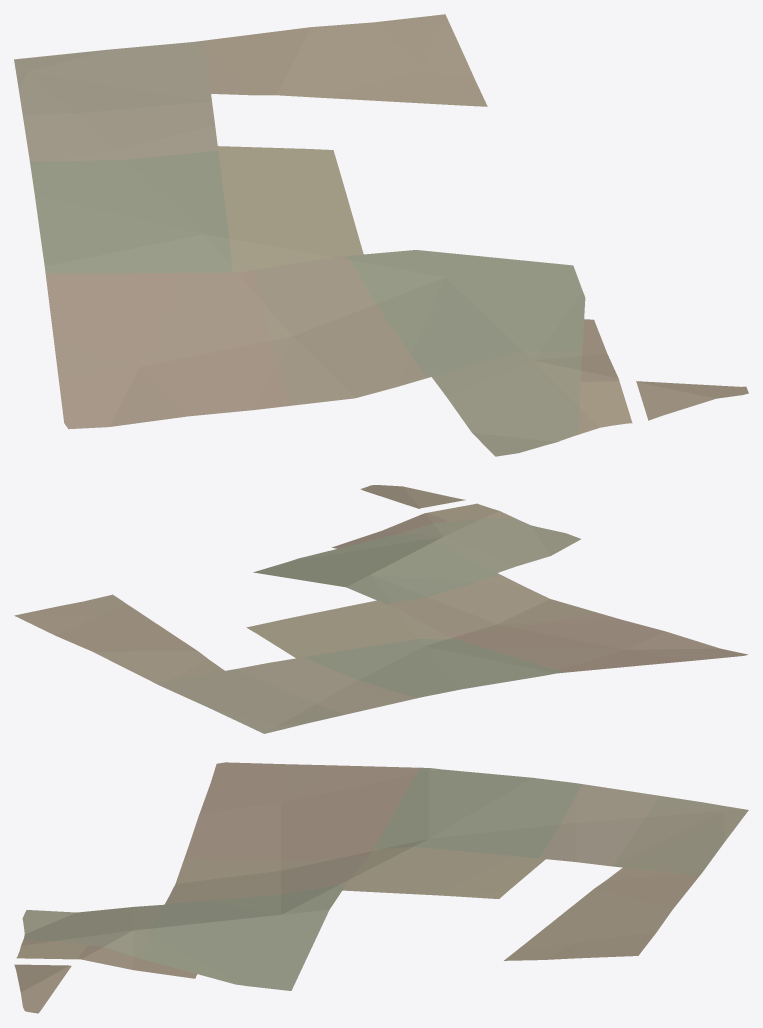
The model's file is farm_-10_-18_soil.glb.
The picture shows the model from 3 angles, top to bottom: view 1: azimuth 30°, elevation 25°; view 2: azimuth 150°, elevation 25°; view 3: azimuth 270°, elevation 25°; orthographic projection. The views are drawn at different scales.
Parts seen in each view (by area): view 1: geometry_0; view 2: geometry_0; view 3: geometry_0.
Boxes of the visible parts, left/top/right/bottom form: geometry_0: left=14, top=14, right=748, bottom=456; geometry_0: left=14, top=485, right=747, bottom=733; geometry_0: left=14, top=762, right=748, bottom=1013.
Size of the model in its own units: 330 by 49.41 by 398.
